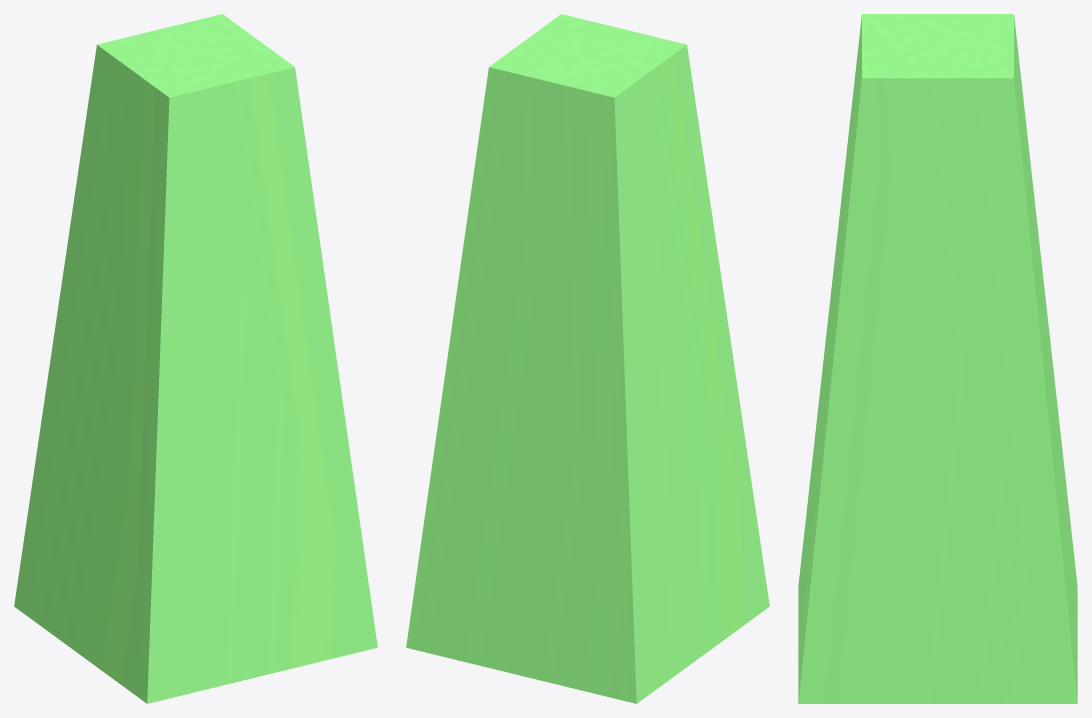
File: trees.011.glb
3 renders of one model, left to right at view 1: azimuth 30°, elevation 25°; view 2: azimuth 150°, elevation 25°; view 3: azimuth 270°, elevation 25°, orthographic. The views are drawn at different scales.
Visible parts, largest first — view 1: trees.011(Clone); view 2: trees.011(Clone); view 3: trees.011(Clone).
Part boxes in pixels (x1,y1,x2,y2): trees.011(Clone): (14, 14, 377, 703); trees.011(Clone): (406, 14, 769, 703); trees.011(Clone): (798, 14, 1077, 703).
Bounding box in the file's own units: 0.5191 × 1.23 × 0.5191.
Materials: 1 (1 with a texture image).
